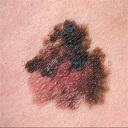Melanoma: (27, 21, 106, 105)
